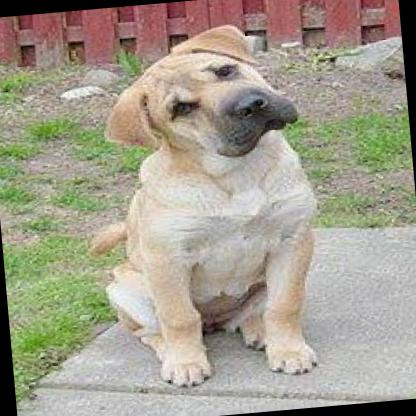bull_mastiff: (86, 20, 332, 394)
